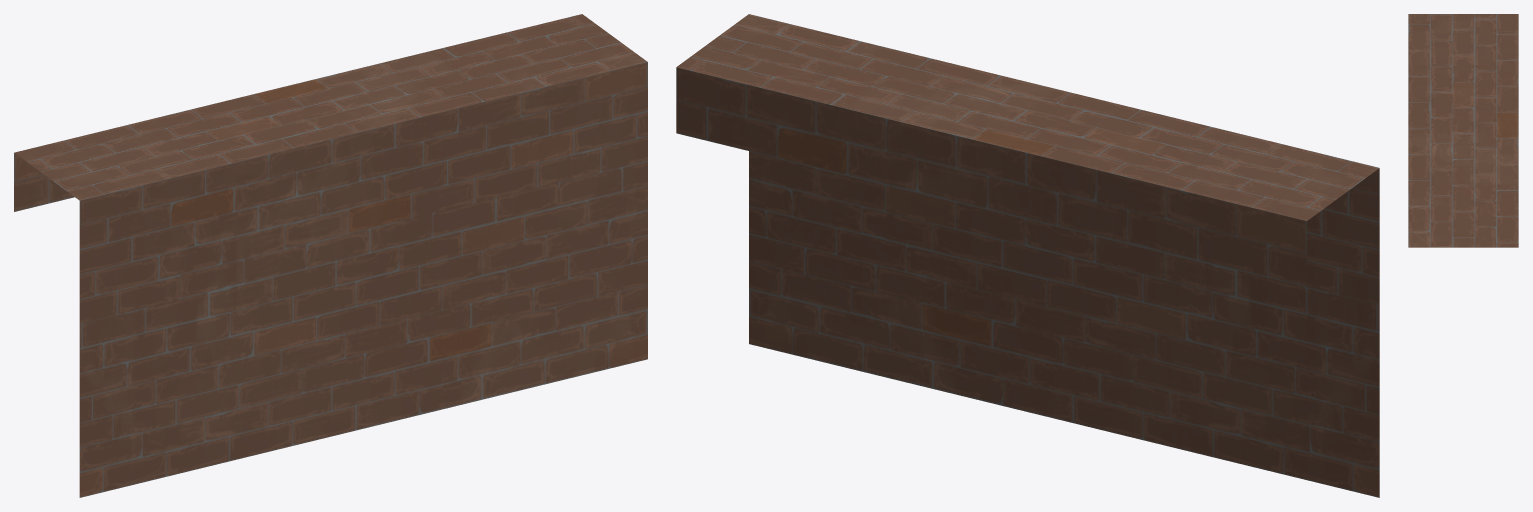
The model's file is Cornice_Brick_Center.gltf.
3 views of the same model, side by side, from view 1: azimuth 30°, elevation 25°; view 2: azimuth 150°, elevation 25°; view 3: azimuth 270°, elevation 25° (orthographic). The views are drawn at different scales.
Visible parts, largest first — view 1: Cornice_Brick_Center; view 2: Cornice_Brick_Center; view 3: Cornice_Brick_Center.
Part boxes in pixels (left/top/right/bottom): Cornice_Brick_Center: left=14, top=14, right=647, bottom=497; Cornice_Brick_Center: left=676, top=14, right=1379, bottom=497; Cornice_Brick_Center: left=1408, top=14, right=1518, bottom=247.
Size of the model in its own units: 2 by 1 by 0.4.
1 material, 1 textured.
